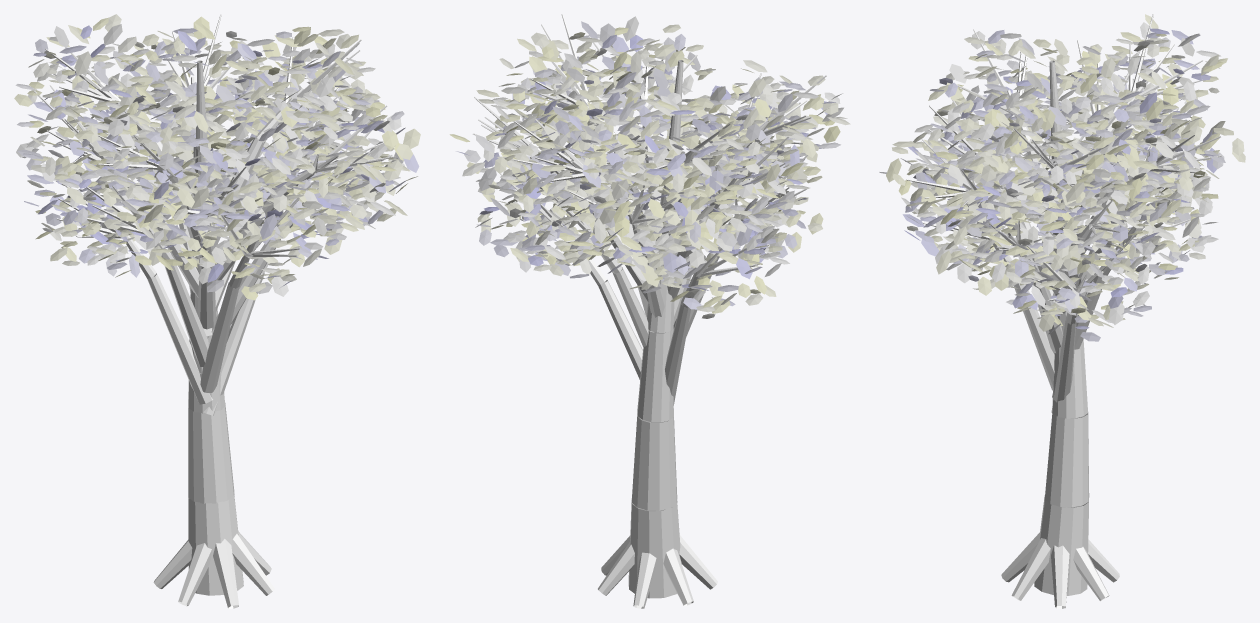
File: SM_HQ_Tree_2.fbx
3 renders of one model, left to right at view 1: azimuth 30°, elevation 25°; view 2: azimuth 150°, elevation 25°; view 3: azimuth 270°, elevation 25°, orthographic. The views are drawn at different scales.
Visible parts, largest first — view 1: SM_HQ_Tree_2.001; view 2: SM_HQ_Tree_2.001; view 3: SM_HQ_Tree_2.001.
Boxes of the visible parts, <box> form: SM_HQ_Tree_2.001: <box>14,14,420,608</box>; SM_HQ_Tree_2.001: <box>449,14,850,608</box>; SM_HQ_Tree_2.001: <box>879,14,1245,608</box>.
Bounding box in the file's own units: 457 × 453 × 716.
